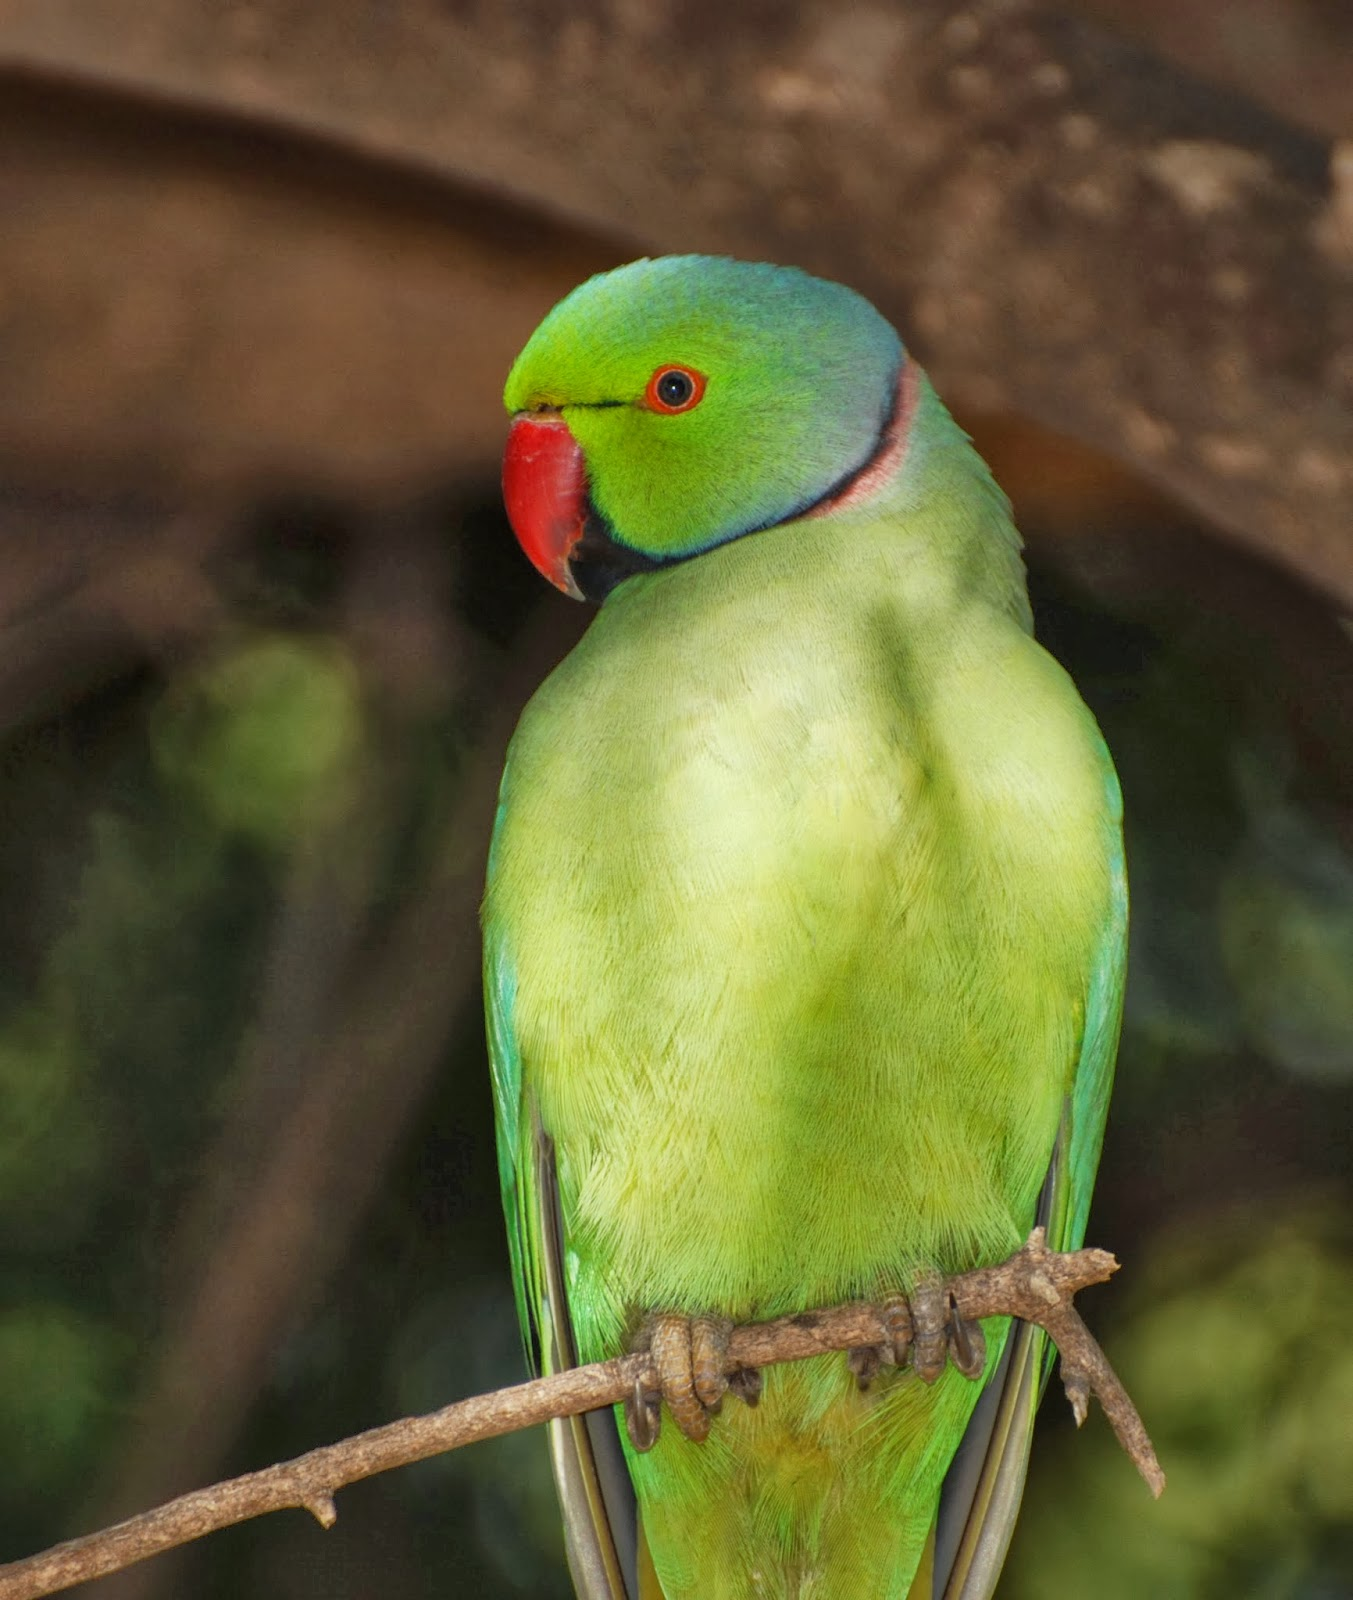bird: (421, 211, 1183, 1600)
